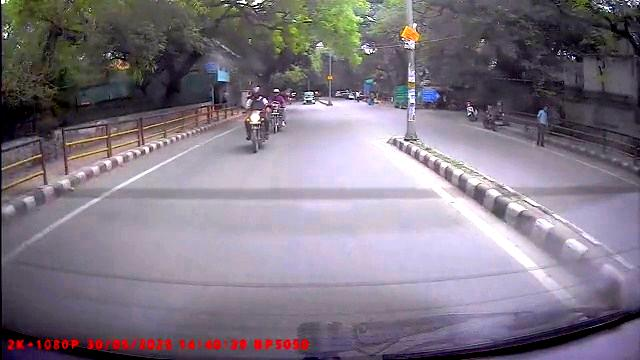motorcycle_with_helmet: (242, 85, 270, 153), (270, 88, 285, 132)
